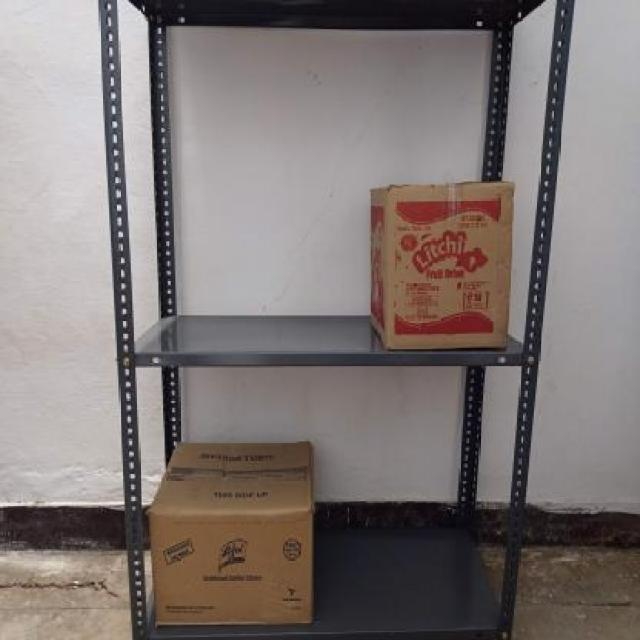box: (386, 183, 511, 349), (148, 509, 316, 626)
